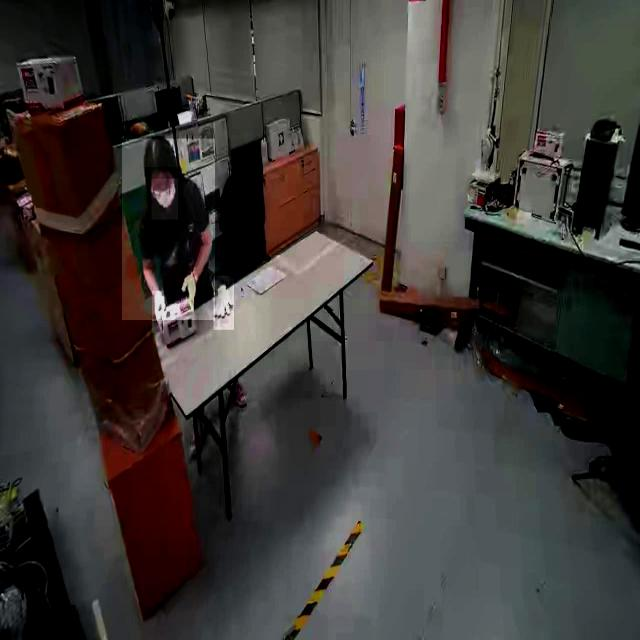face_mask: (152, 178, 178, 220)
hand_glove: (213, 276, 234, 330), (179, 273, 202, 316), (152, 291, 164, 334)
head_nohelmet: (144, 134, 176, 168)
person: (121, 139, 215, 321)
